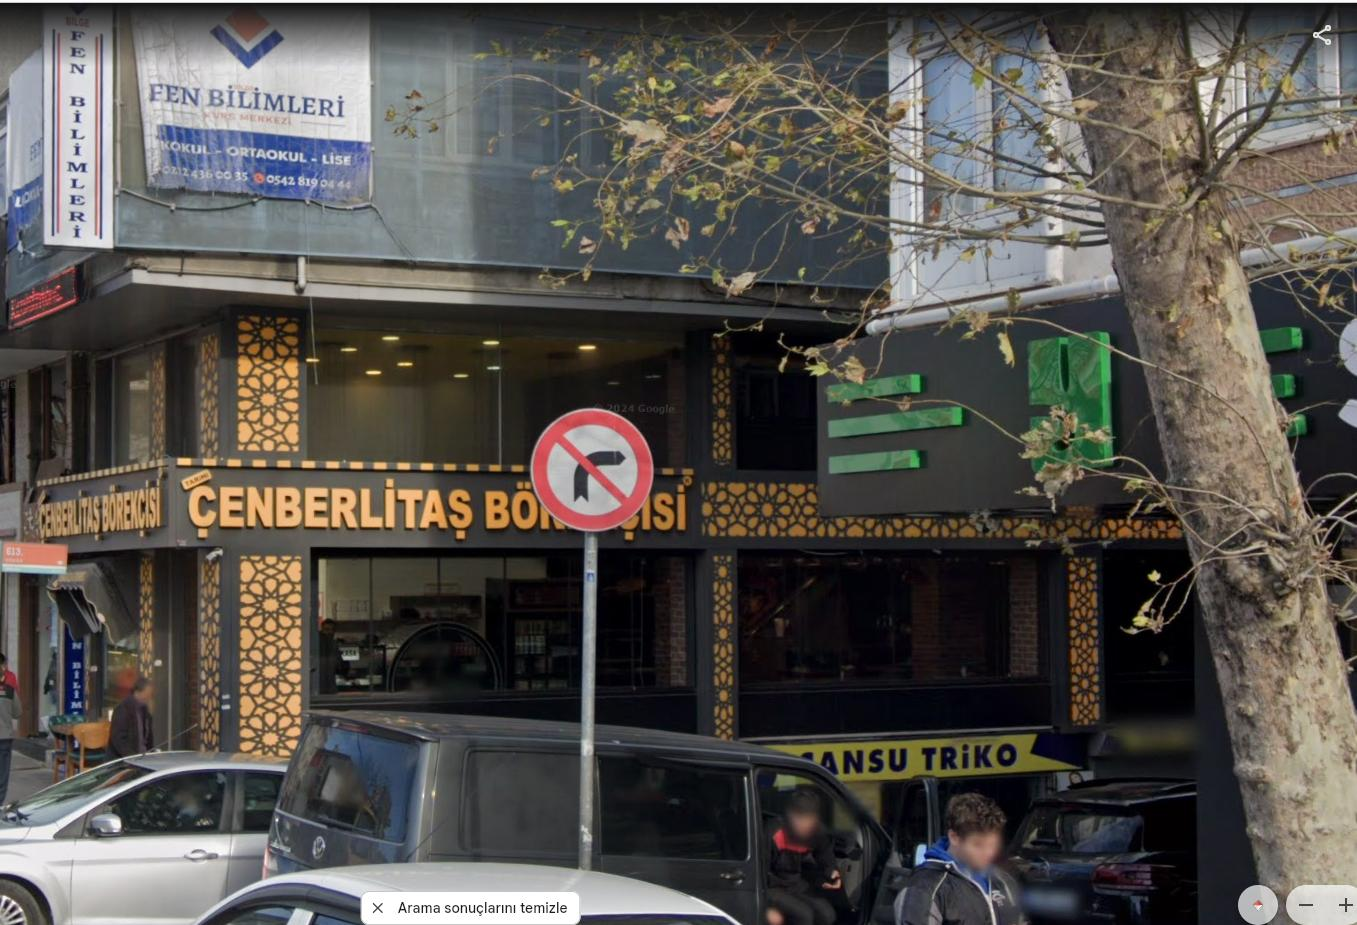rightturnsareforbidden: (521, 399, 687, 552)
